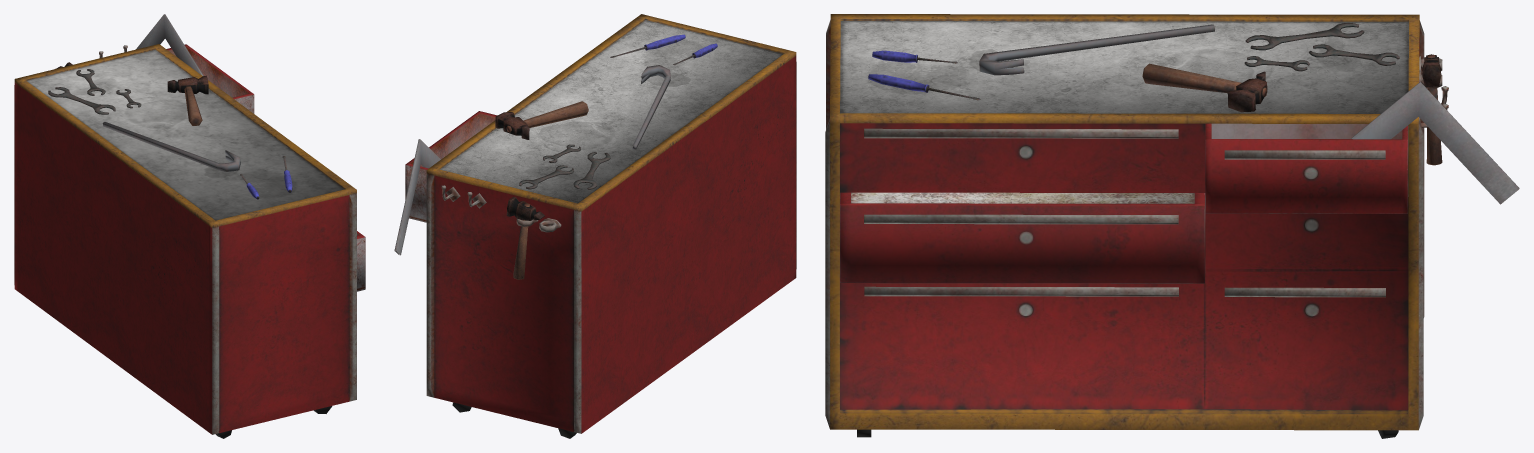
Rendered from tool_container_lowpoly.glb.
3 renders of one model, left to right at view 1: azimuth 30°, elevation 25°; view 2: azimuth 150°, elevation 25°; view 3: azimuth 270°, elevation 25°, orthographic. The views are drawn at different scales.
Visible parts, largest first — view 1: ToolsLow2; view 2: ToolsLow2; view 3: ToolsLow2.
Boxes of the visible parts, bbox=[...] form: ToolsLow2: bbox=[14, 14, 365, 438]; ToolsLow2: bbox=[394, 14, 796, 438]; ToolsLow2: bbox=[825, 14, 1519, 438].
Bounding box in the file's own units: 0.84 × 1.19 × 2.
Materials: 1 (1 with a texture image).
